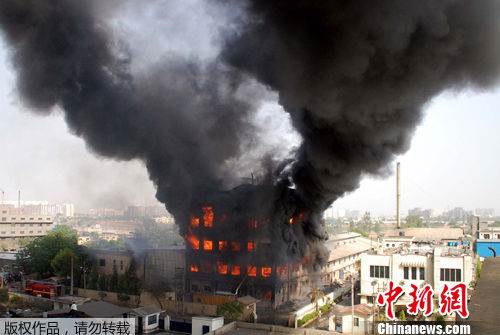fire: (176, 198, 318, 289)
smoke: (10, 7, 451, 176)
